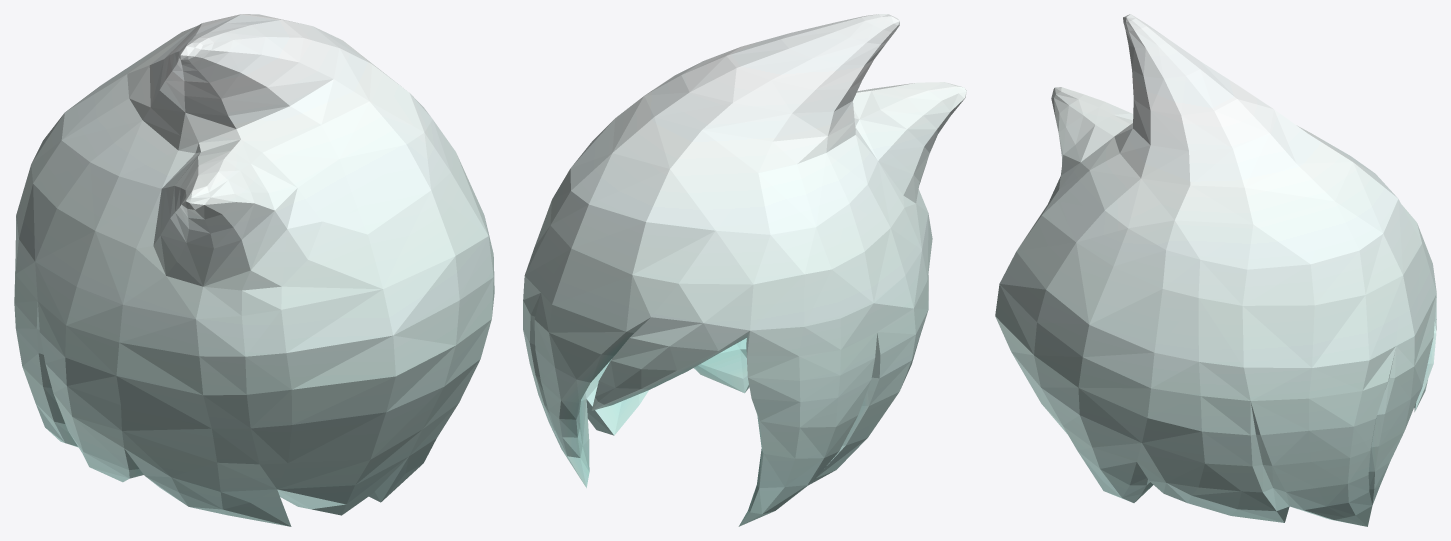
The model's file is CharSkyKid_Hair_TriumphSwept.glb.
3 renders of one model, left to right at view 1: azimuth 30°, elevation 25°; view 2: azimuth 150°, elevation 25°; view 3: azimuth 270°, elevation 25°, orthographic. The views are drawn at different scales.
Visible parts, largest first — view 1: CharSkyKid_Hair_TriumphSwept; view 2: CharSkyKid_Hair_TriumphSwept; view 3: CharSkyKid_Hair_TriumphSwept.
Part boxes in pixels (x1,y1,x2,y2): CharSkyKid_Hair_TriumphSwept: (14,14,494,526); CharSkyKid_Hair_TriumphSwept: (523,14,966,526); CharSkyKid_Hair_TriumphSwept: (995,14,1436,526).
Size of the model in its own units: 3 by 3.58 by 3.38.
1 material, 1 textured.
